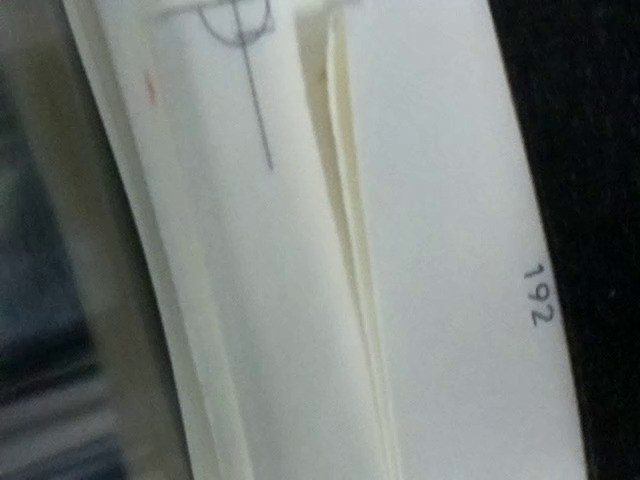not_sure: (146, 1, 281, 57)
